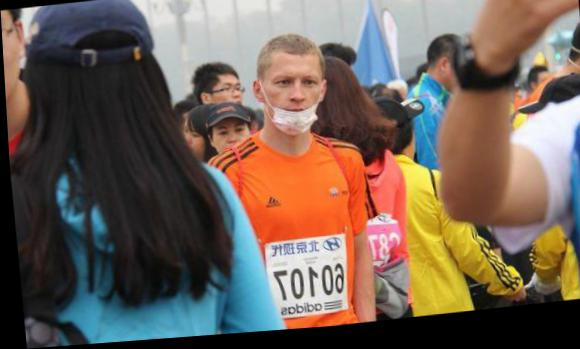NONE: (211, 123, 252, 163), (210, 79, 245, 119), (180, 126, 205, 164)
WRONG: (259, 72, 327, 141)
